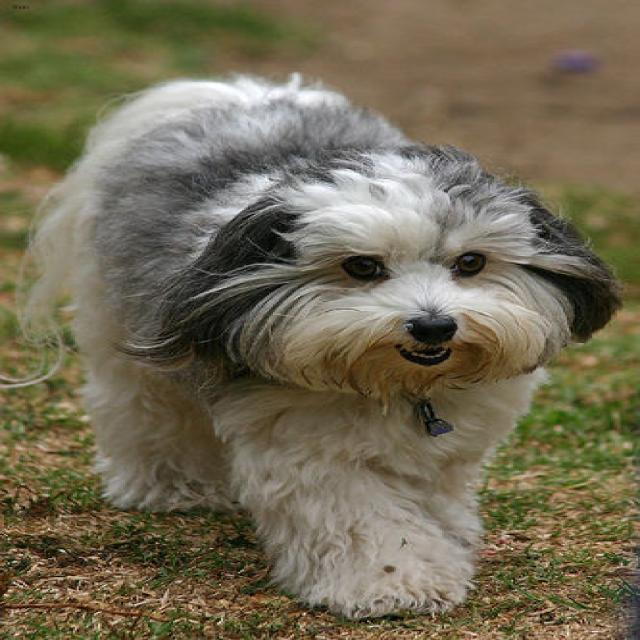dog-havanese: (2, 65, 630, 628)
